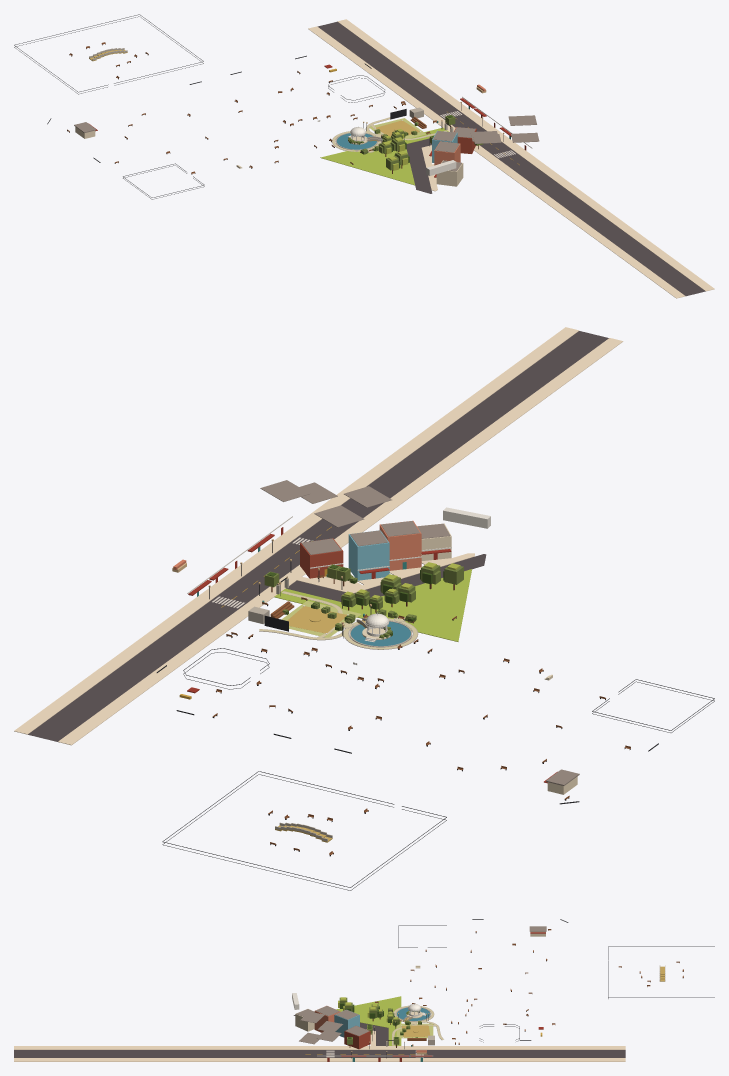
File: chunk_0_0.glb
3 views of the same model, one above another, from view 1: azimuth 30°, elevation 25°; view 2: azimuth 150°, elevation 25°; view 3: azimuth 270°, elevation 25° (orthographic). The views are drawn at different scales.
Parts seen in each view (by area): view 1: chunk_0_0__ground, chunk_0_0__building, chunk_0_0__tree, chunk_0_0__feat_ballfield, chunk_0_0__feat_garden, chunk_0_0__bench; view 2: chunk_0_0__ground, chunk_0_0__building, chunk_0_0__tree, chunk_0_0__feat_ballfield, chunk_0_0__feat_garden, chunk_0_0__bench, chunk_0_0__water; view 3: chunk_0_0__ground, chunk_0_0__building, chunk_0_0__tree, chunk_0_0__feat_ballfield, chunk_0_0__bench, chunk_0_0__feat_garden, chunk_0_0__water.
Boxes of the visible parts, x1,y1,x2,y2 form: chunk_0_0__ground: (308, 19, 714, 298); chunk_0_0__building: (429, 96, 539, 186); chunk_0_0__tree: (348, 115, 483, 173); chunk_0_0__feat_ballfield: (369, 109, 426, 138); chunk_0_0__feat_garden: (14, 14, 203, 94); chunk_0_0__bench: (67, 42, 436, 174); chunk_0_0__ground: (14, 327, 623, 745); chunk_0_0__building: (187, 480, 451, 596); chunk_0_0__tree: (264, 541, 463, 639); chunk_0_0__feat_ballfield: (264, 600, 361, 637); chunk_0_0__feat_garden: (162, 771, 446, 890); chunk_0_0__bench: (212, 575, 630, 856); chunk_0_0__water: (349, 620, 412, 647); chunk_0_0__ground: (14, 996, 625, 1061); chunk_0_0__building: (295, 1005, 432, 1061); chunk_0_0__tree: (338, 997, 421, 1047); chunk_0_0__feat_ballfield: (396, 1023, 433, 1040); chunk_0_0__bench: (375, 929, 683, 1046); chunk_0_0__feat_garden: (608, 946, 714, 998); chunk_0_0__water: (396, 1007, 430, 1021).
Bounding box in the file's own units: 174 × 14.62 × 361.
